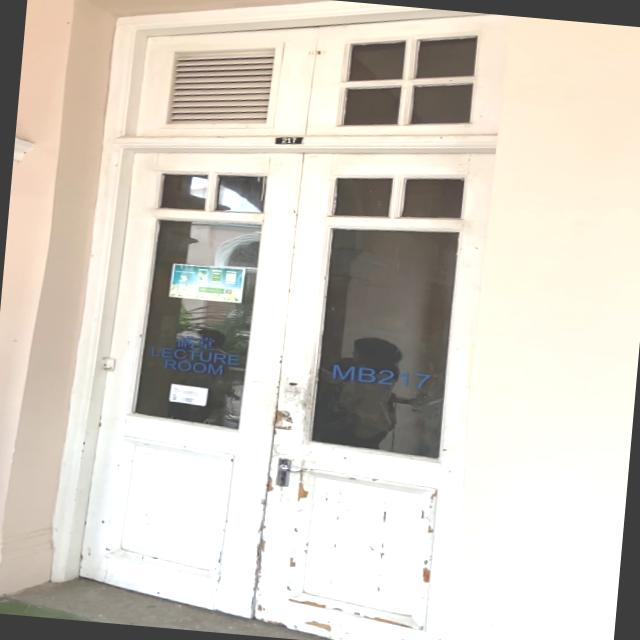room217: (271, 132, 304, 148)
room217Window: (324, 359, 434, 393)
